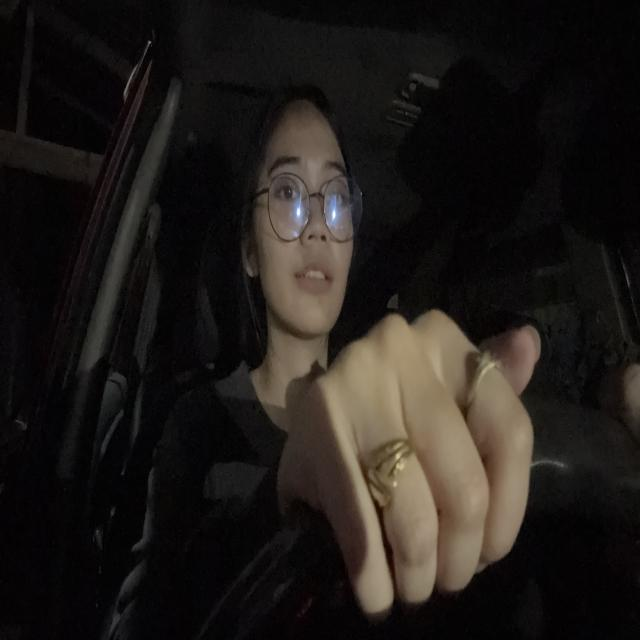open: (266, 148, 303, 216), (318, 154, 348, 227)
